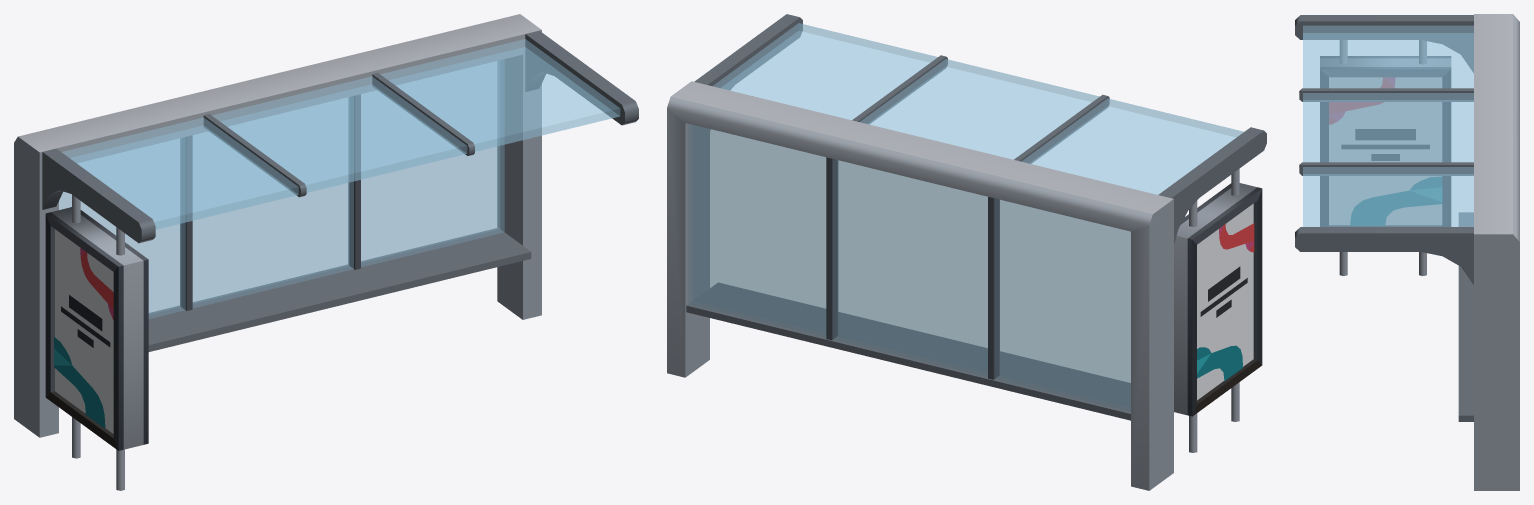
File: bus_stop_02_pacote.glb
The picture shows the model from 3 angles, left to right: view 1: azimuth 30°, elevation 25°; view 2: azimuth 150°, elevation 25°; view 3: azimuth 270°, elevation 25°; orthographic projection. The views are drawn at different scales.
Parts seen in each view (by area): view 1: bus_stop_02_pacote; view 2: bus_stop_02_pacote; view 3: bus_stop_02_pacote.
Boxes of the visible parts, left/top/right/bottom form: bus_stop_02_pacote: left=14, top=14, right=638, bottom=490; bus_stop_02_pacote: left=667, top=14, right=1266, bottom=490; bus_stop_02_pacote: left=1295, top=14, right=1519, bottom=490.
Size of the model in its own units: 4.66 by 2.5 by 1.98.
Materials: 2 (1 with a texture image).
